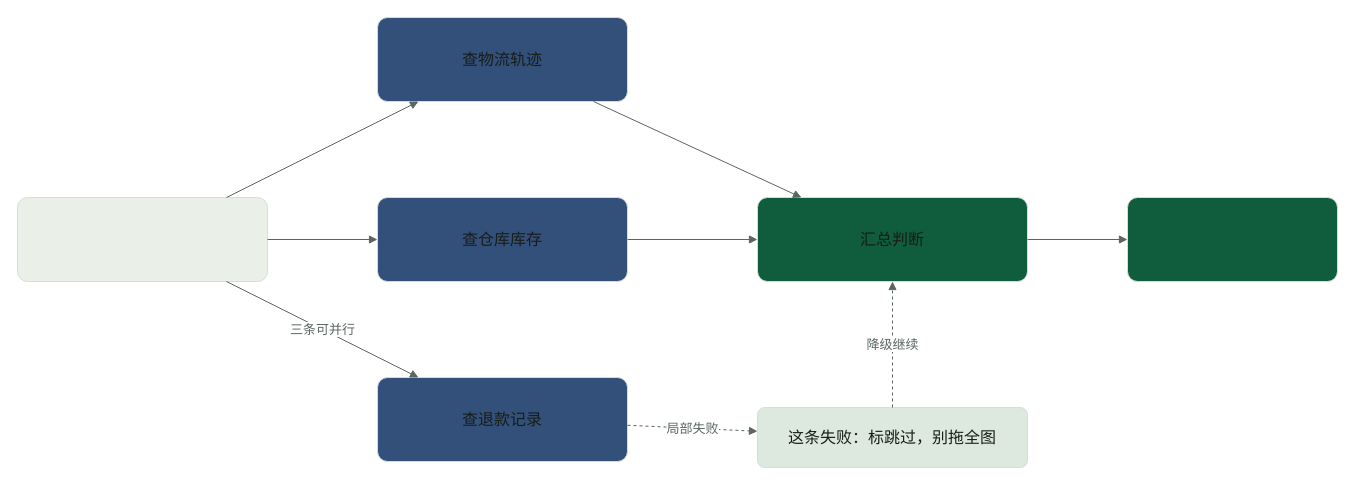
Image size: 1355x485. Some labels were removed from this diagram. The shapes that lost their labels are listed below. From the top down, each one's centre as x and y in pixels, then its label:
At (x=142, y=239): "取订单".
At (x=1232, y=239): "生成回答".
